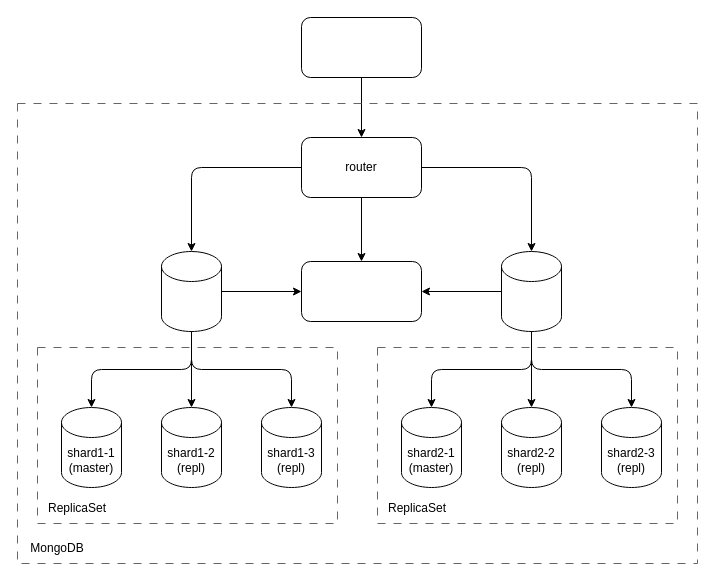
Some shapes in this 715 by 581 pixel diagram are drawn without their labels. The centre of each missing label's shape, as x and y in pixels:
"configSrv" belongs at pixel 361 291.
"pymongo-api" belongs at pixel 361 47.
"shard1" belongs at pixel 191 291.
"shard2" belongs at pixel 531 291.
